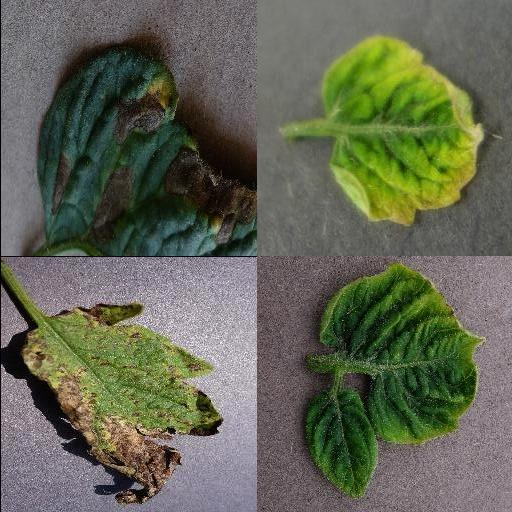Early Blight: (33, 47, 255, 256)
Septoria: (20, 303, 222, 505)
Yellow Leaf Curl Virus: (316, 34, 484, 228), (315, 264, 485, 444), (304, 386, 378, 496)
